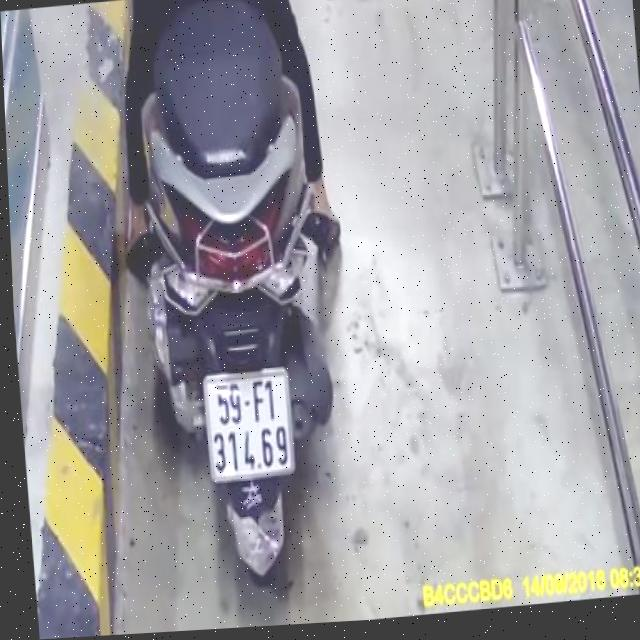motorcycle: (118, 0, 370, 609)
plate: (197, 362, 302, 487)
